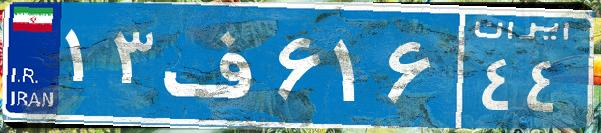1: (330, 28, 385, 110), (57, 26, 110, 107)
3: (110, 28, 158, 105)
4: (475, 38, 525, 113), (525, 38, 570, 115)
6: (385, 28, 445, 110), (273, 28, 330, 110)
ف: (158, 15, 273, 115)
